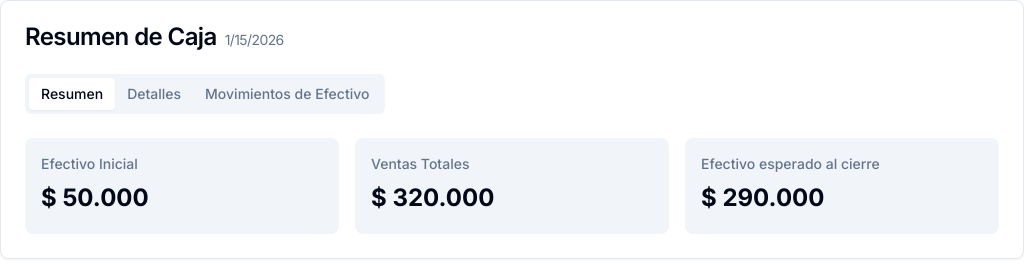
it: CashRegisterSummary — preserved behaviour › still labels the movements (Ingreso/Retiro) and the empty state
Expected: the text "Resumen de Caja" is shown, [25,22,217,51]
Step 1. Press the mouse on the tab "Movimientos de Efectivo" → (287, 94), box [193,78,381,110]
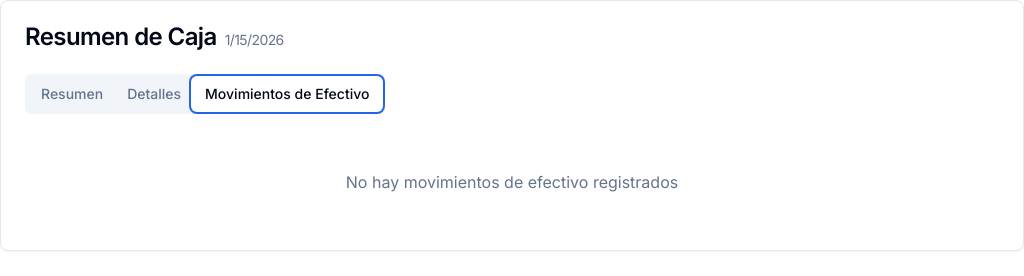
Expected: the text "No hay movimientos de efectivo registrados" is shown, [346,172,678,192]
